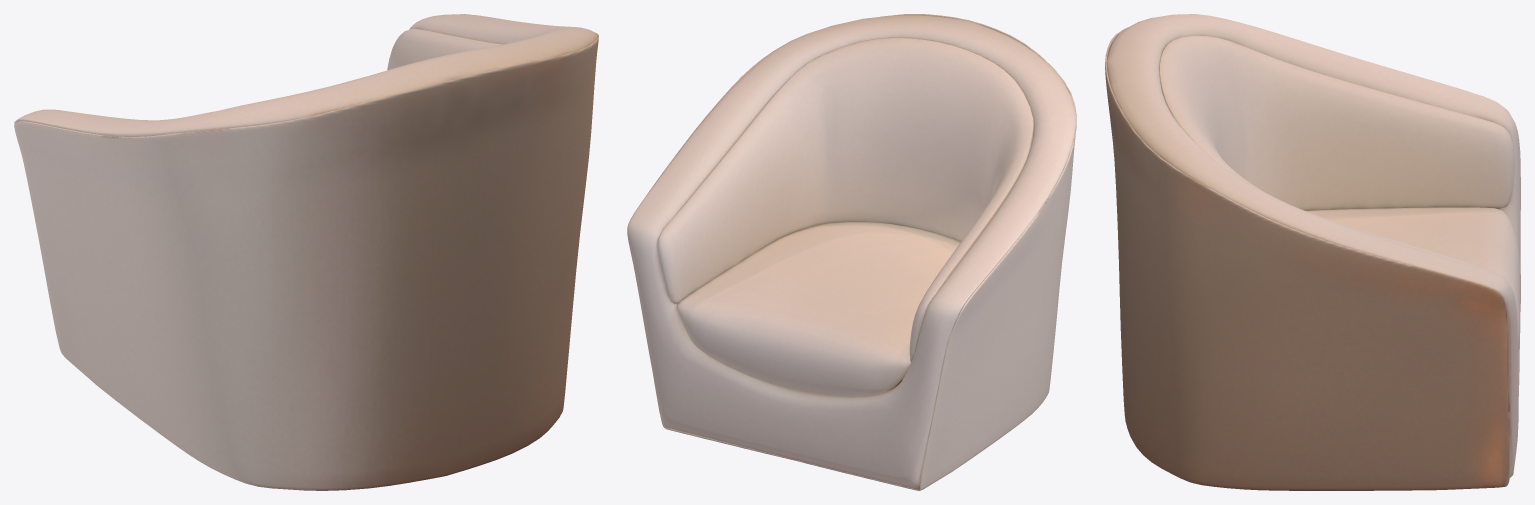
Rendered from chair_02.gltf.
The picture shows the model from 3 angles, left to right: view 1: azimuth 30°, elevation 25°; view 2: azimuth 150°, elevation 25°; view 3: azimuth 270°, elevation 25°; orthographic projection. The views are drawn at different scales.
Visible parts, largest first — view 1: Sofa001_Febric_0.001; view 2: Sofa001_Febric_0.001; view 3: Sofa001_Febric_0.001.
Part boxes in pixels (x1,y1,x2,y2): Sofa001_Febric_0.001: [14, 14, 598, 490]; Sofa001_Febric_0.001: [627, 14, 1076, 490]; Sofa001_Febric_0.001: [1105, 14, 1520, 490].
Size of the model in its own units: 0.658 by 0.5776 by 0.6046.
Materials: 1 (1 with a texture image).
